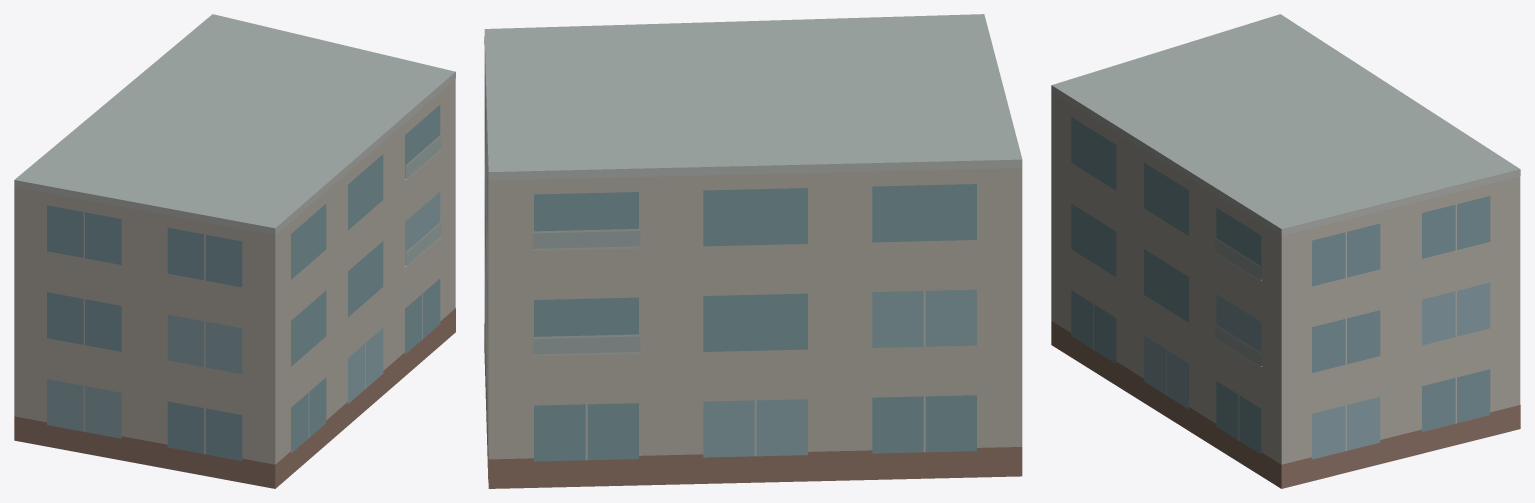
Rendered from survey-upis-32568988.glb.
The picture shows the model from 3 angles, left to right: view 1: azimuth 30°, elevation 25°; view 2: azimuth 150°, elevation 25°; view 3: azimuth 270°, elevation 25°; orthographic projection. The views are drawn at different scales.
Visible parts, largest first — view 1: survey-upis-32568988.tmp; view 2: survey-upis-32568988.tmp; view 3: survey-upis-32568988.tmp.
Boxes of the visible parts, x1=… form: survey-upis-32568988.tmp: x1=14, y1=14, x2=455, y2=488; survey-upis-32568988.tmp: x1=484, y1=14, x2=1022, y2=488; survey-upis-32568988.tmp: x1=1051, y1=14, x2=1520, y2=488.
Bounding box in the file's own units: 16.25 × 9.15 × 14.98.
